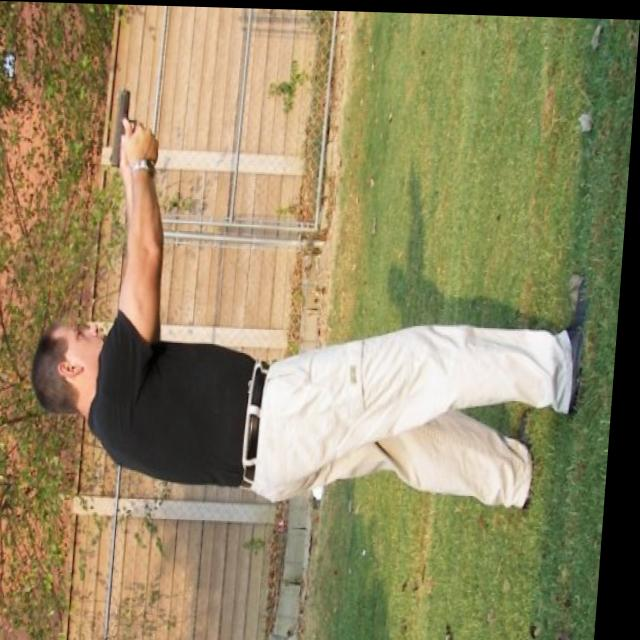handgun: (109, 86, 148, 165)
